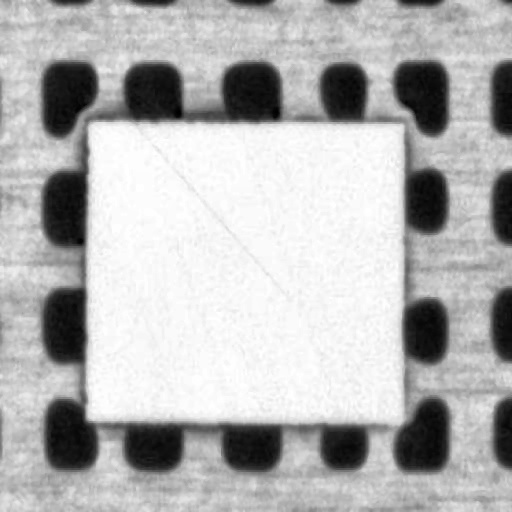DIE_CRACK: (172, 88, 384, 225)
